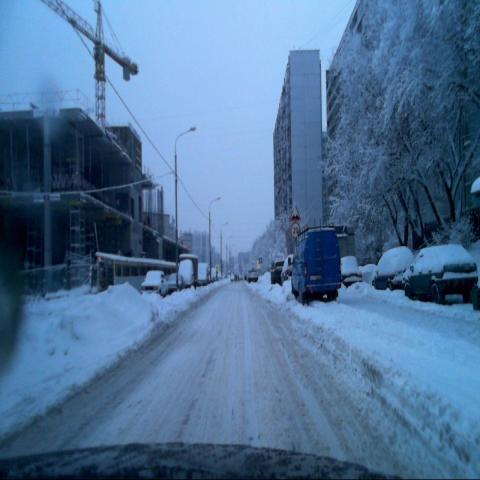1_16: (287, 201, 301, 221)
